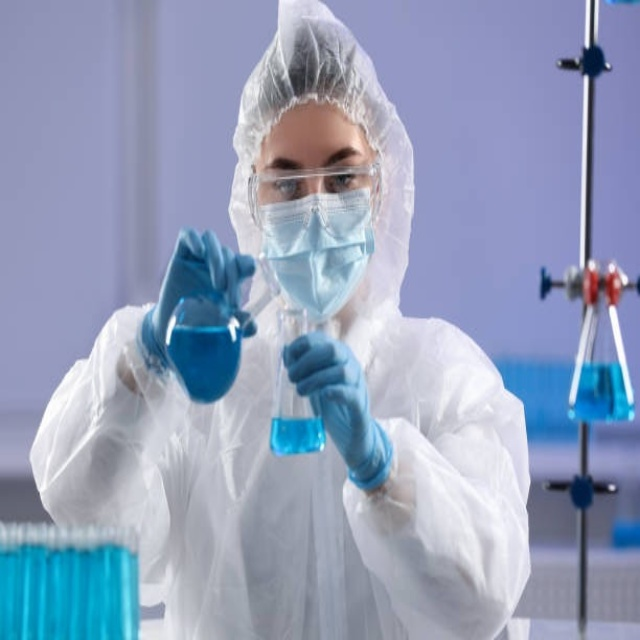Gafas: (248, 162, 382, 233)
Guantes: (139, 226, 258, 401), (283, 332, 391, 489)
Mascara: (255, 181, 376, 323)
